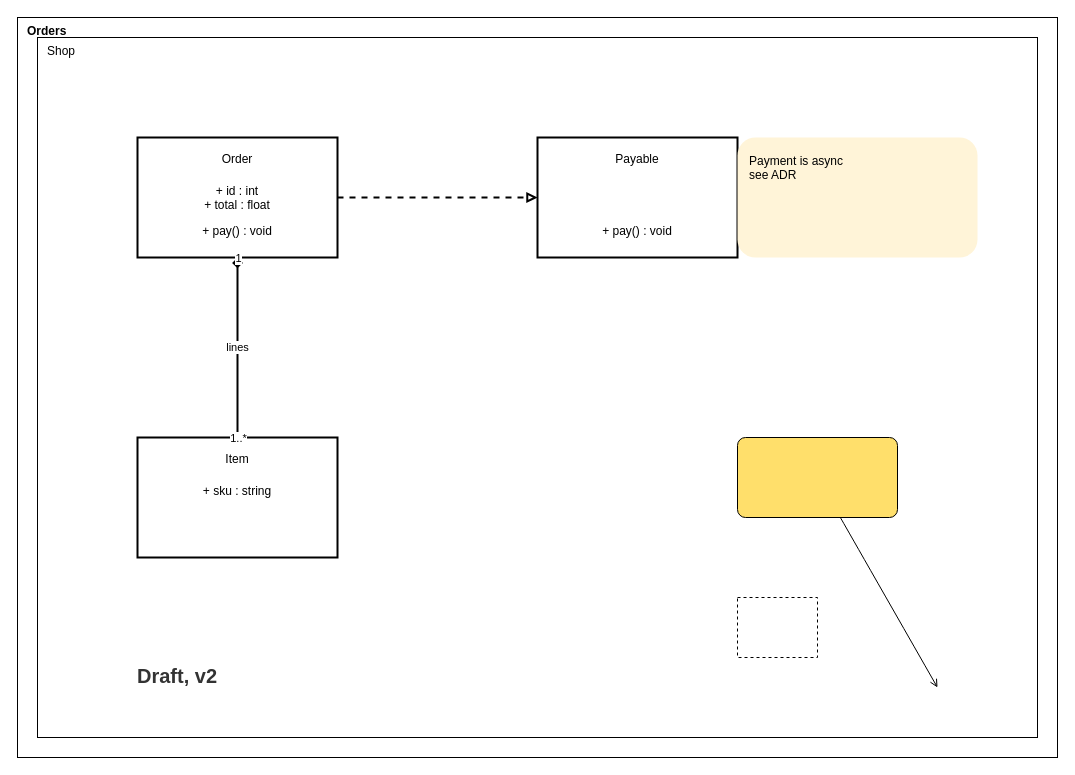
The diagram is 1075 pixels wide and 775 high, and some of its shapes have lost their labels. Each missing label, with the centre of its shape:
Ask the <b>team</b> & "legal": [817,477]
Logo: [777,627]
